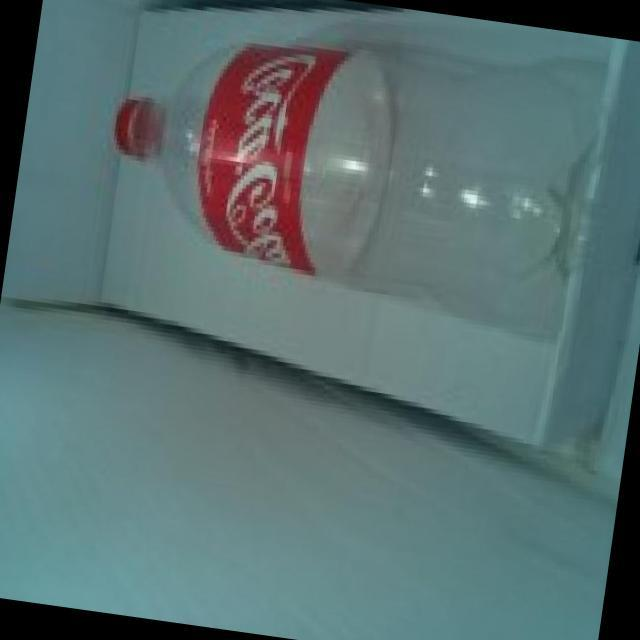good: (73, 6, 609, 358)
